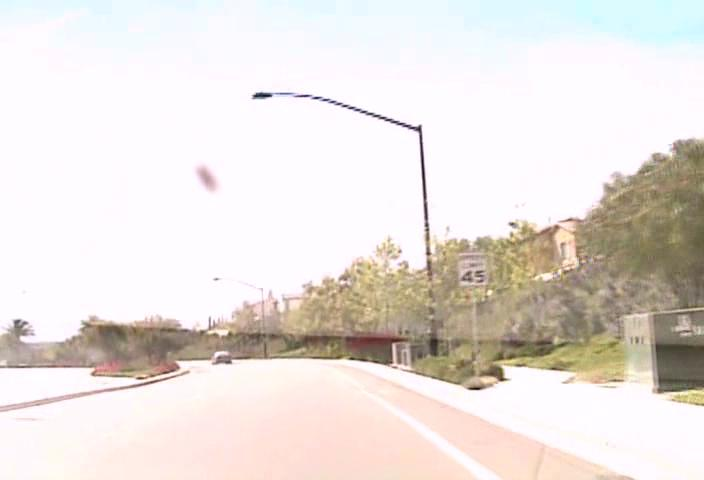speedLimit45: (457, 250, 488, 286)
